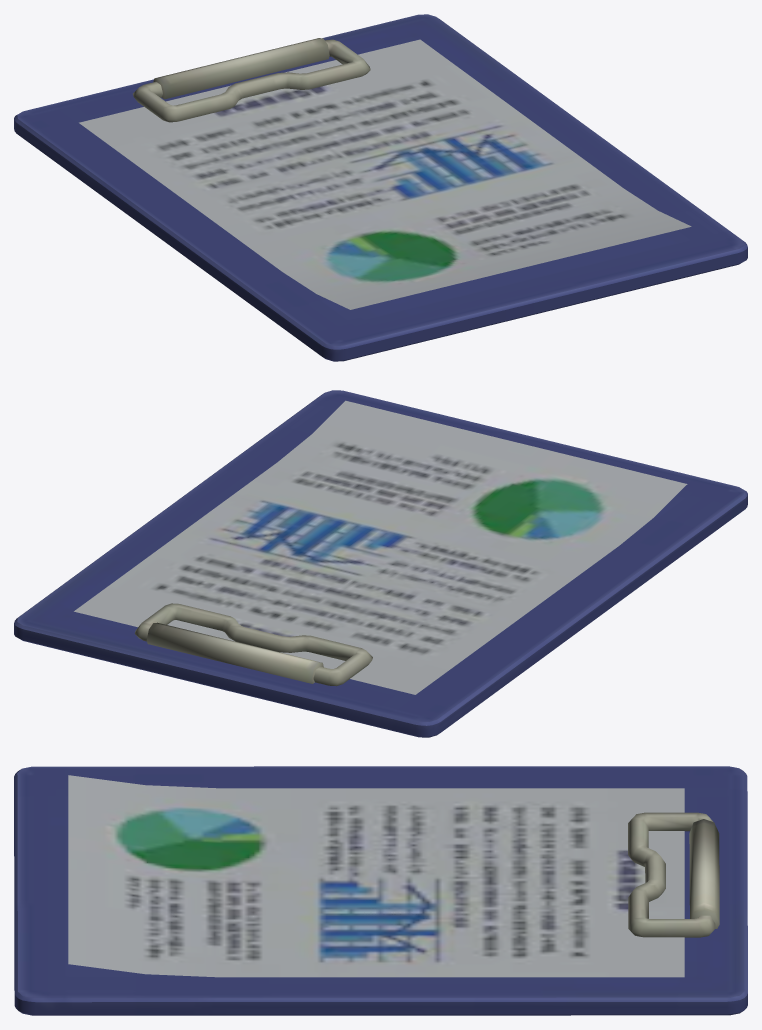
3 views of the same model, one above another, from view 1: azimuth 30°, elevation 25°; view 2: azimuth 150°, elevation 25°; view 3: azimuth 270°, elevation 25° (orthographic). The views are drawn at different scales.
Bounding box in the file's own units: 4.97 × 0.3629 × 6.56.
2 materials, 2 textured.
